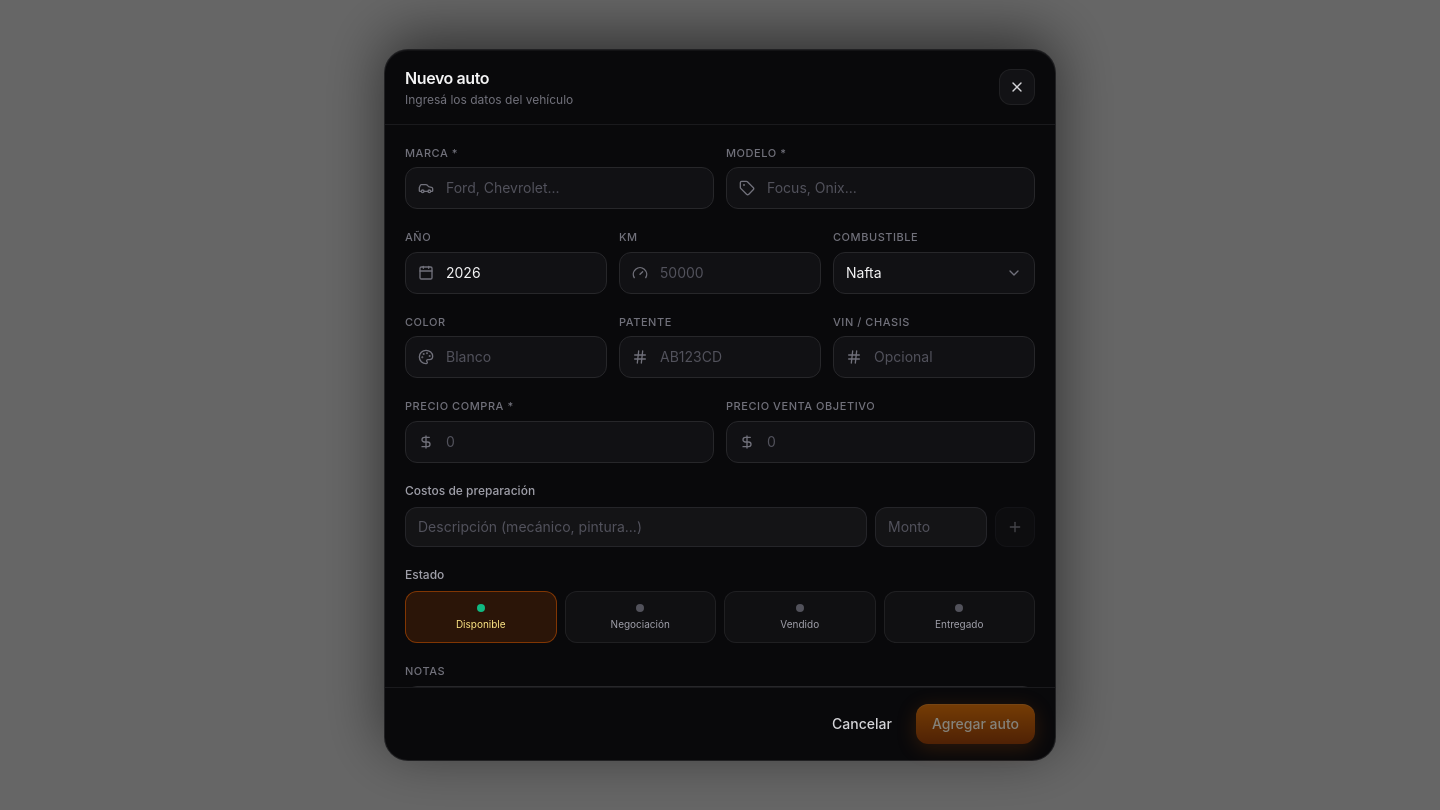
Autos: el costo de preparación tipeado en la fila › a medio cargar no deja guardar y dice qué falta
Type "Ford" into the field labelled "Marca *" at (574, 188), box [434,168,713,208]
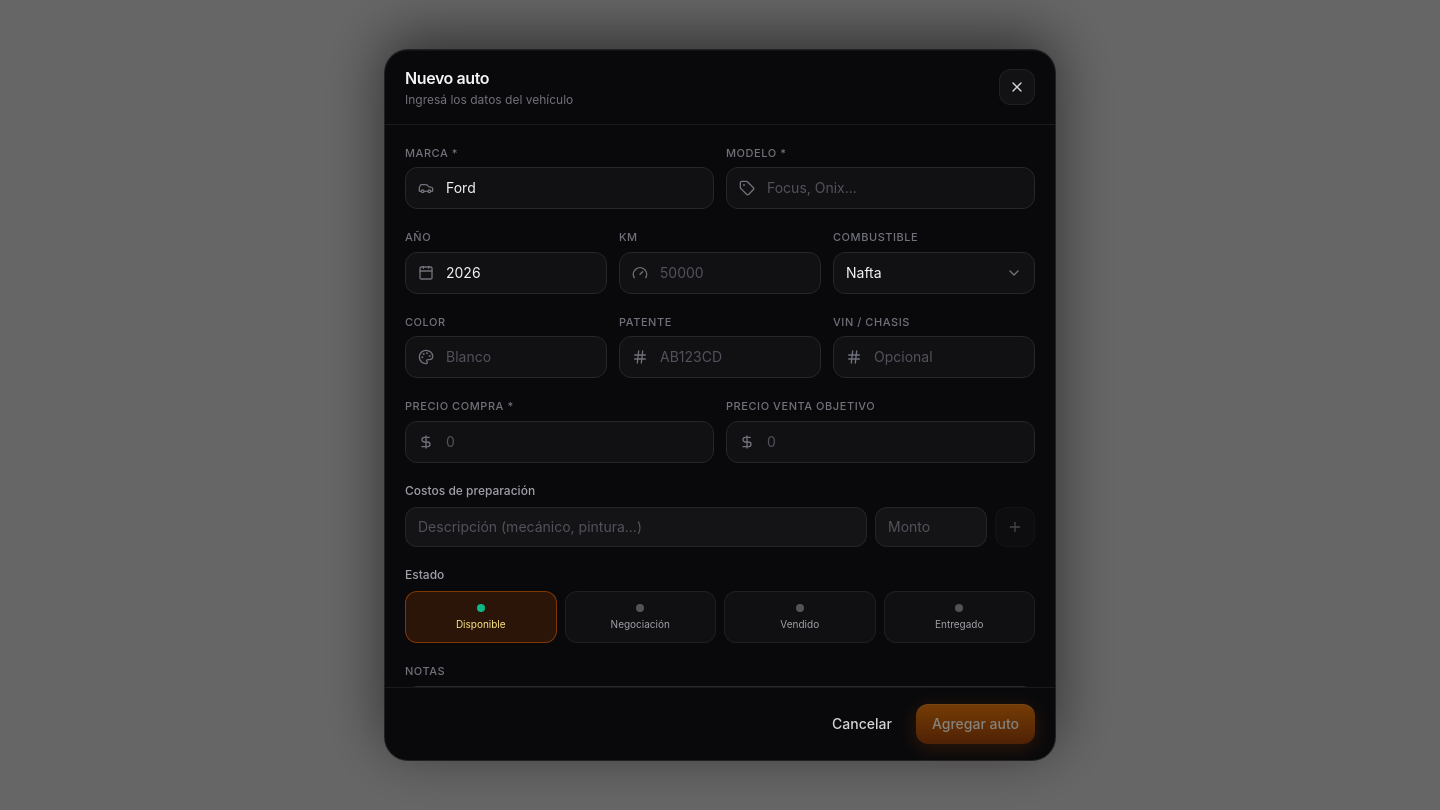
Type "Focus" into the field labelled "Modelo *" at (894, 188), box [755,168,1034,208]
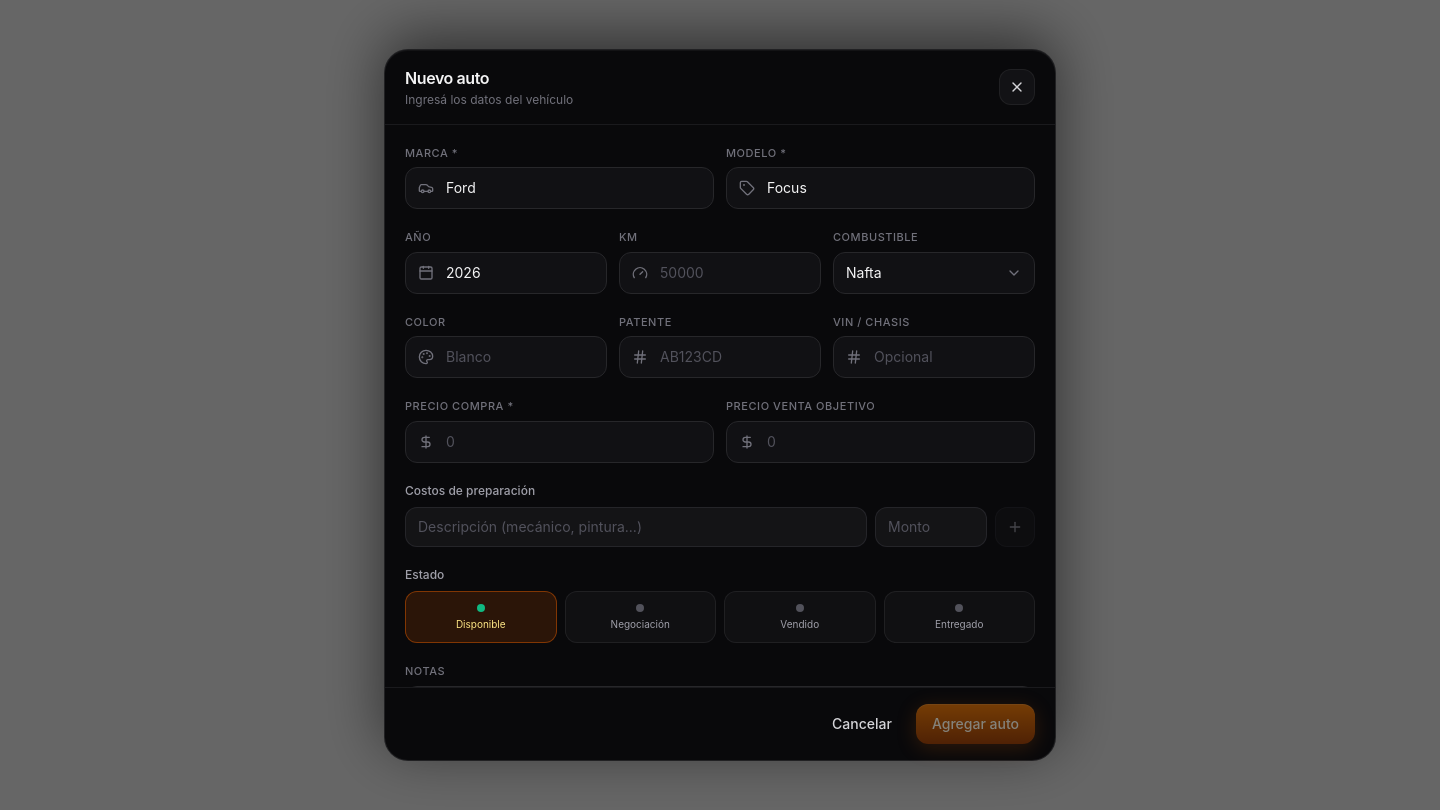
Type "5000000" into the number field labelled "Precio compra *" at (574, 442), box [434,422,713,462]
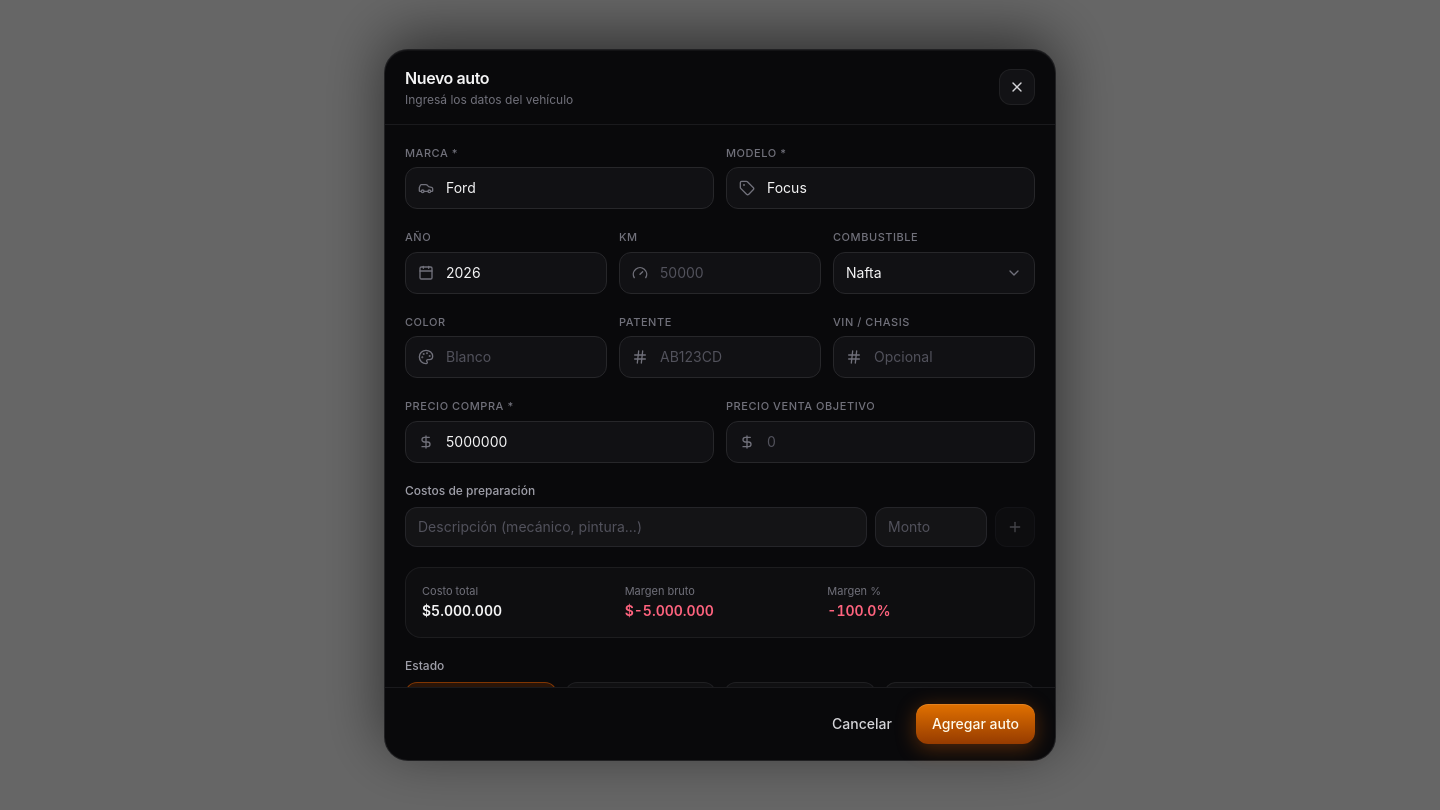
Type "Pintura" into the field named "Descripción del costo" at (636, 527), box [405,507,867,547]
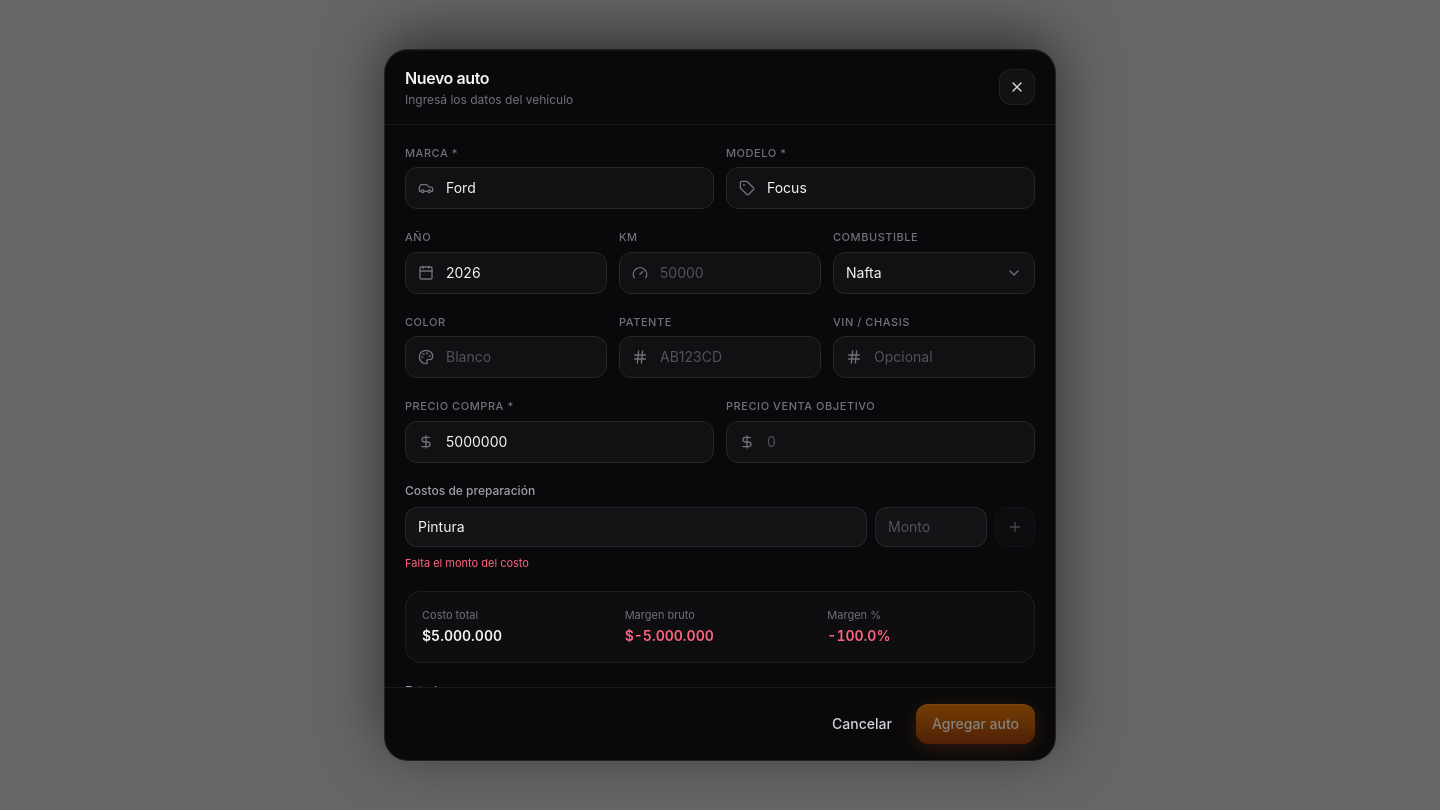
Expected: the button named "Agregar costo" is disabled, [995,507,1035,547]
Result: the text "Falta el monto del costo" is shown at [405,556,529,570]
Result: the button "Agregar auto" is disabled at [916,704,1035,744]
